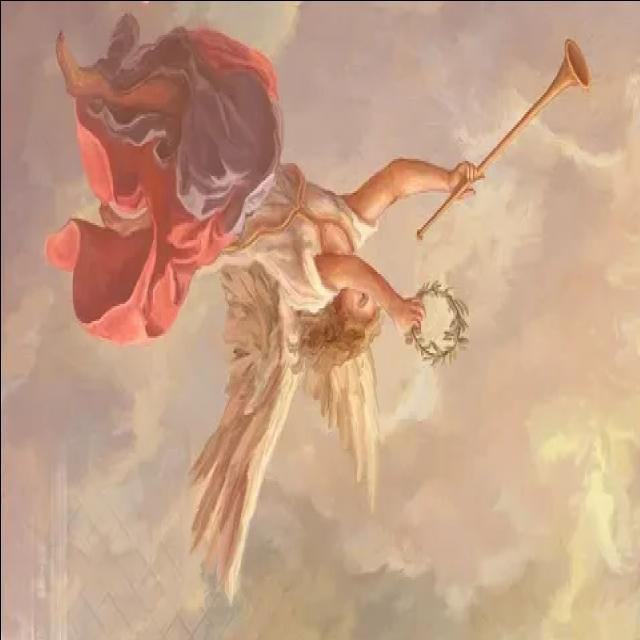angel: (34, 9, 606, 609)
